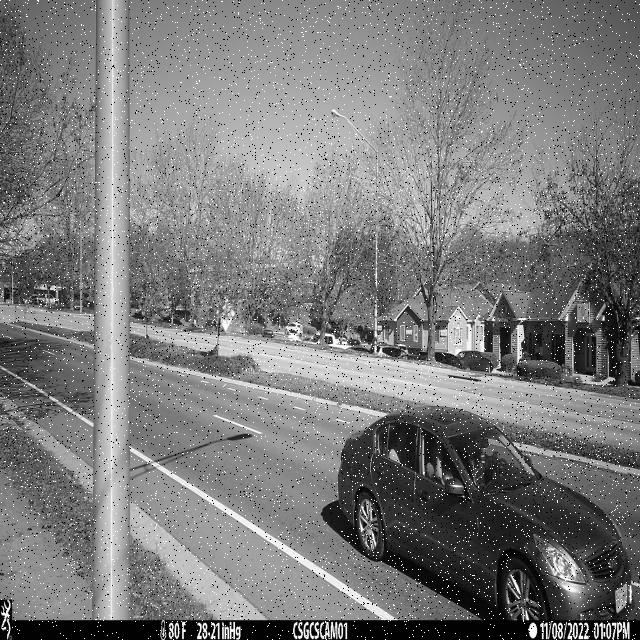Sedan: (339, 406, 635, 621)
